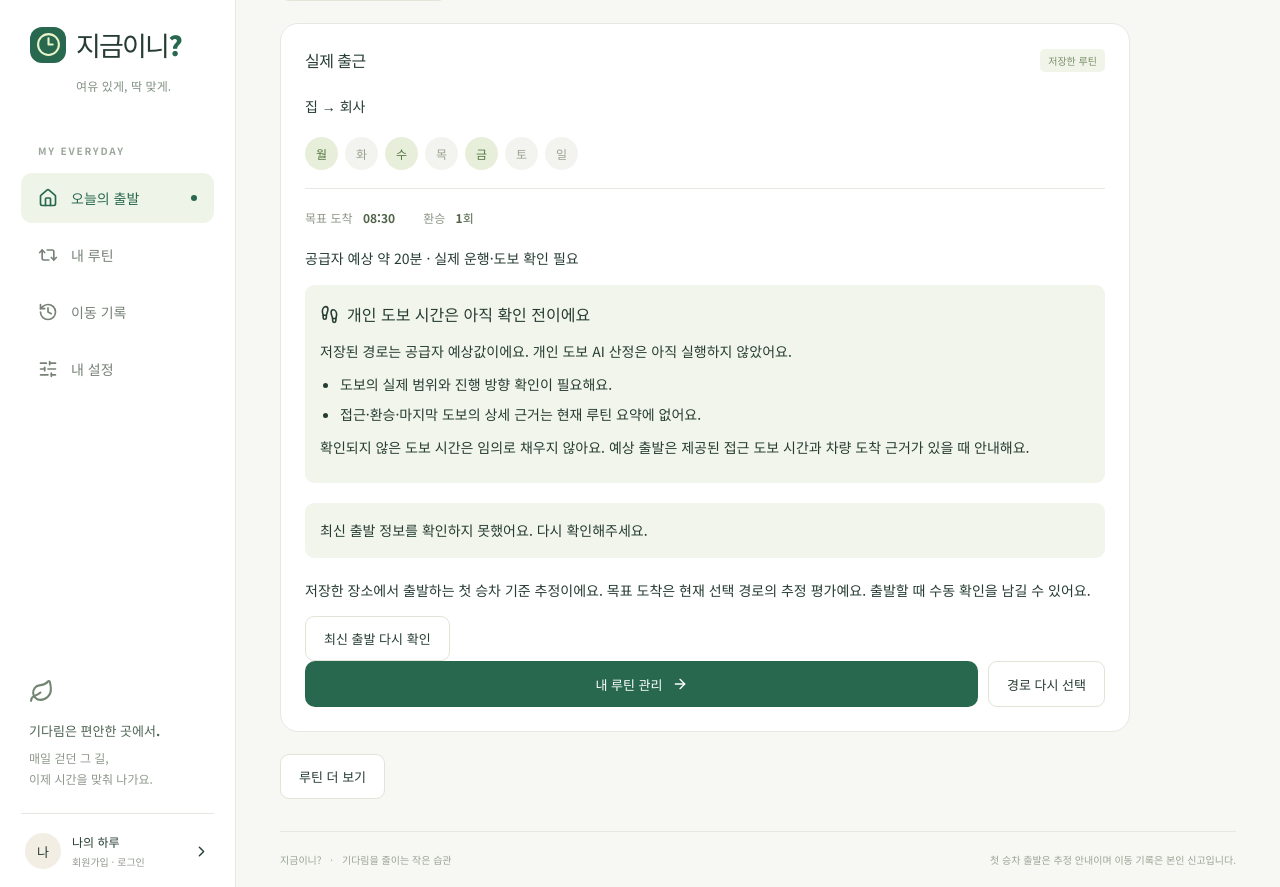
Scenario: loads a further page and preserves already loaded rows
The width and height of the screenshot is (1280, 887).
(page scrolled)
Expected: the heading "실제 출근" is shown, [305,48,366,72]
Click the button "루틴 더 보기". click: (333, 777)
box: [280,754,385,799]
(page scrolled)
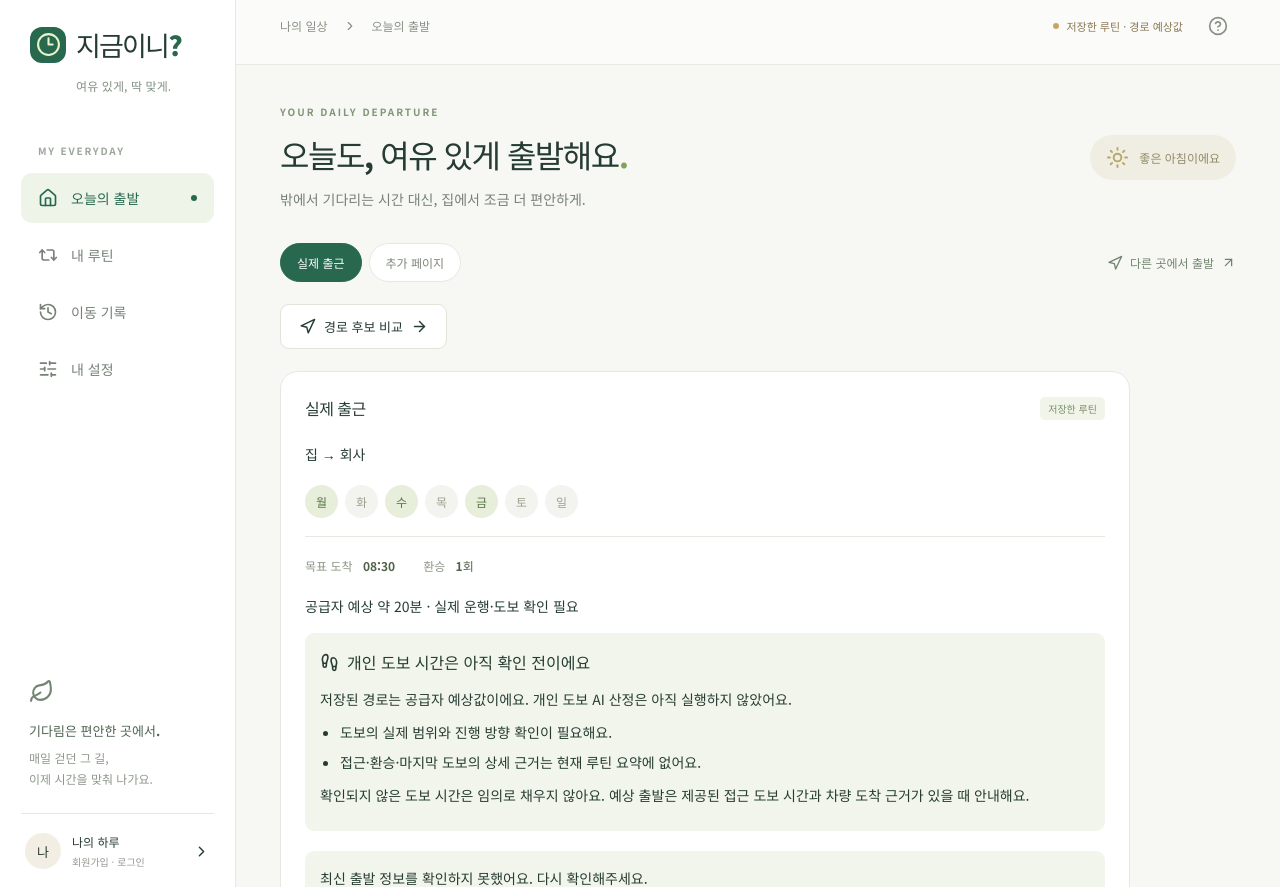
Result: the button "추가 페이지" is shown at [368,243,461,282]
